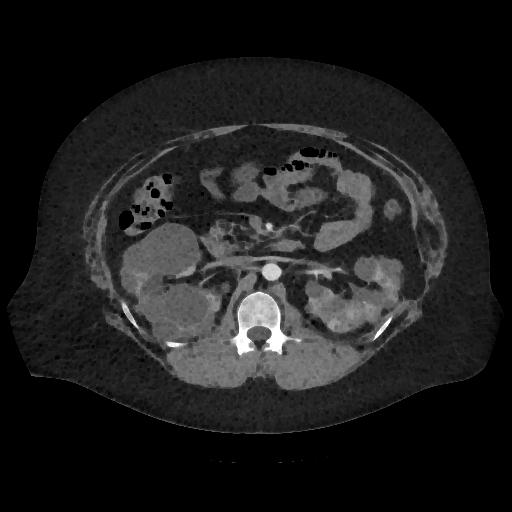Lesion: (323, 313, 341, 333)
